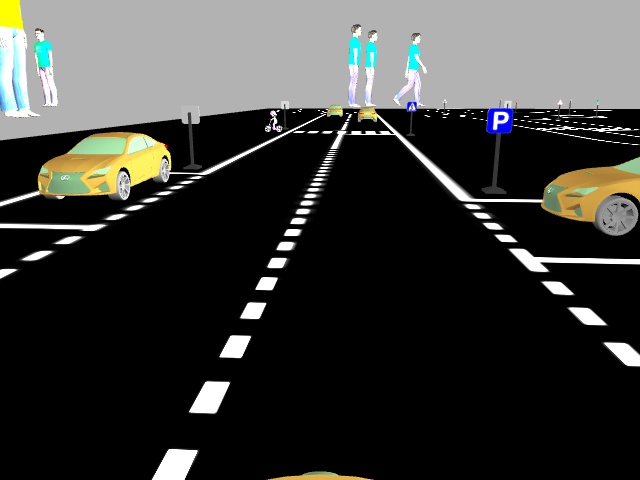Parking: (483, 106, 514, 135)
